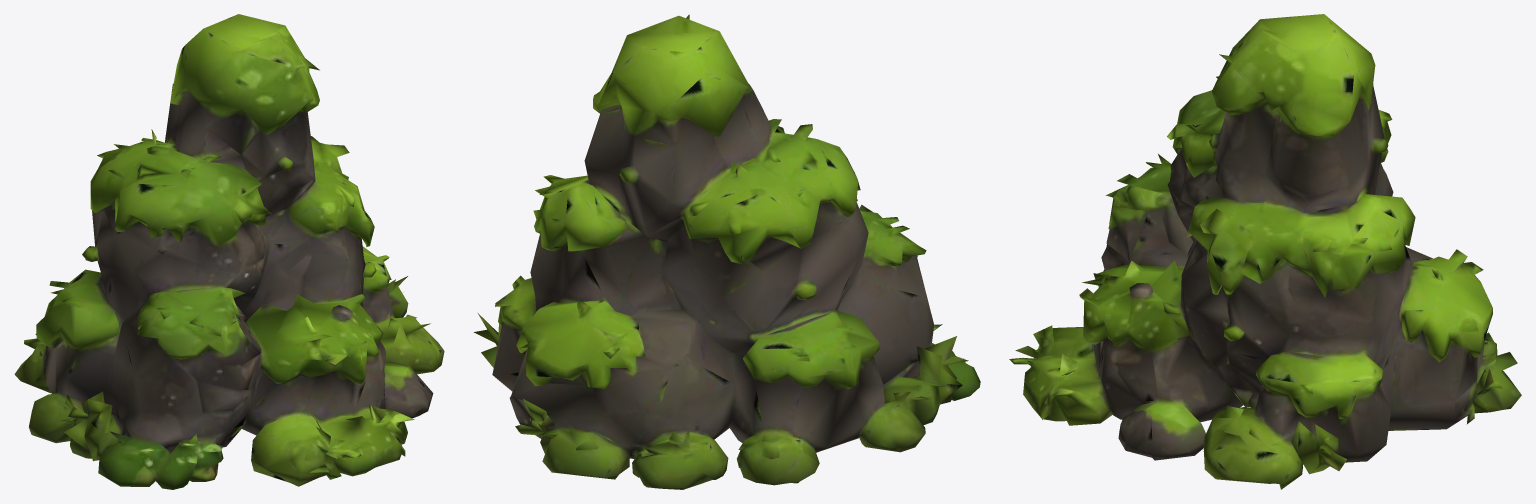
File: pedra.glb
3 views of the same model, side by side, from view 1: azimuth 30°, elevation 25°; view 2: azimuth 150°, elevation 25°; view 3: azimuth 270°, elevation 25° (orthographic). The views are drawn at different scales.
Visible parts, largest first — view 1: tripo_node_39ad9613-b769-4994-bdce-f74c97e85363; view 2: tripo_node_39ad9613-b769-4994-bdce-f74c97e85363; view 3: tripo_node_39ad9613-b769-4994-bdce-f74c97e85363.
Boxes of the visible parts, left/top/right/bottom form: tripo_node_39ad9613-b769-4994-bdce-f74c97e85363: left=14, top=14, right=444, bottom=489; tripo_node_39ad9613-b769-4994-bdce-f74c97e85363: left=473, top=14, right=980, bottom=489; tripo_node_39ad9613-b769-4994-bdce-f74c97e85363: left=1009, top=14, right=1521, bottom=489.
Size of the model in its own units: 0.9498 by 0.8026 by 0.9765.
1 material, 1 textured.
